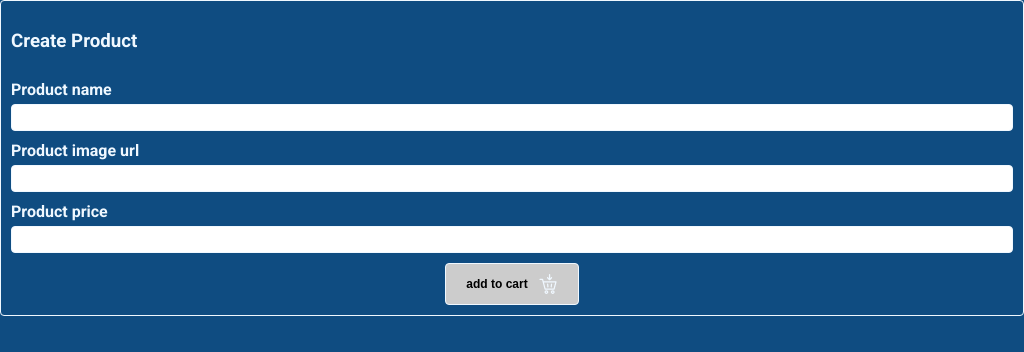
AddToCartForm › checks product name input valid
Type "new" into the field labelled "Product name" at (512, 118), box [11,104,1013,131]
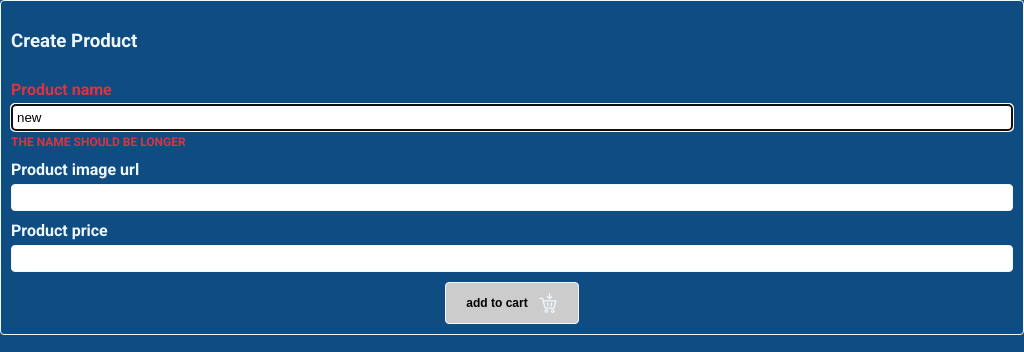
Expected: the text "The name should be longer" is shown, [11,135,186,149]
Type "new product" into the field labelled "Product name" at (512, 118), box [11,104,1013,131]
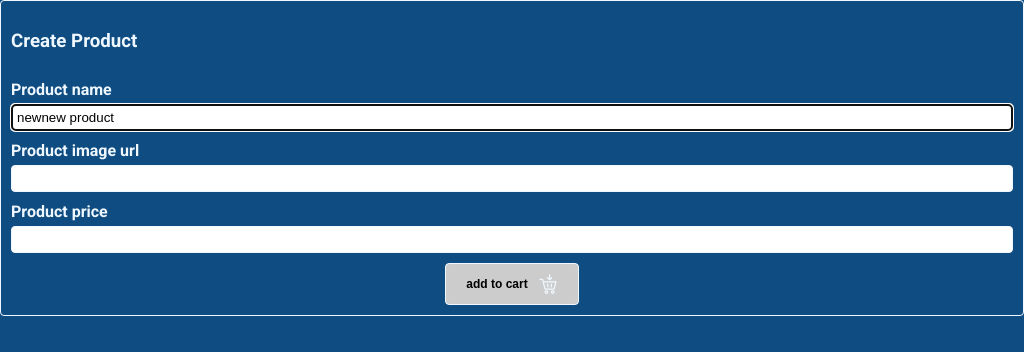
Expected: the text "The name should be longer" is gone
